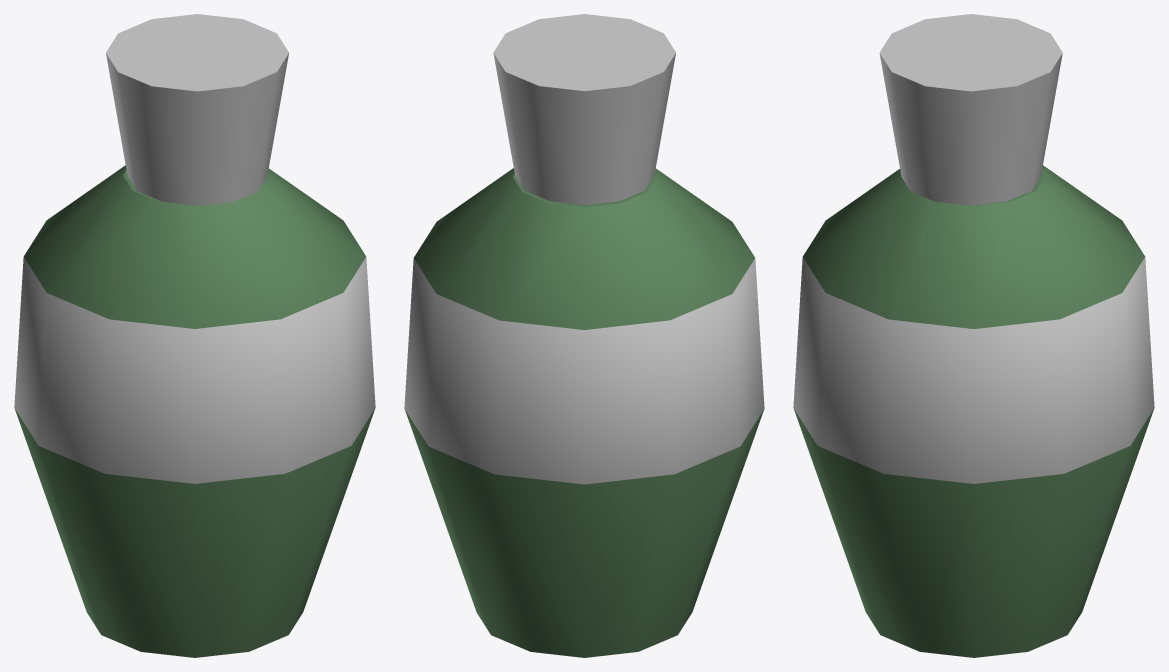
File: botella5.fbx
3 renders of one model, left to right at view 1: azimuth 30°, elevation 25°; view 2: azimuth 150°, elevation 25°; view 3: azimuth 270°, elevation 25°, orthographic.
Parts seen in each view (by area): view 1: Botella1; view 2: Botella1; view 3: Botella1.
Part boxes in pixels (x1,y1,x2,y2): Botella1: (14,14,375,657); Botella1: (404,14,764,657); Botella1: (793,14,1154,657).
Bounding box in the file's own units: 9.88 × 16.91 × 9.88.
